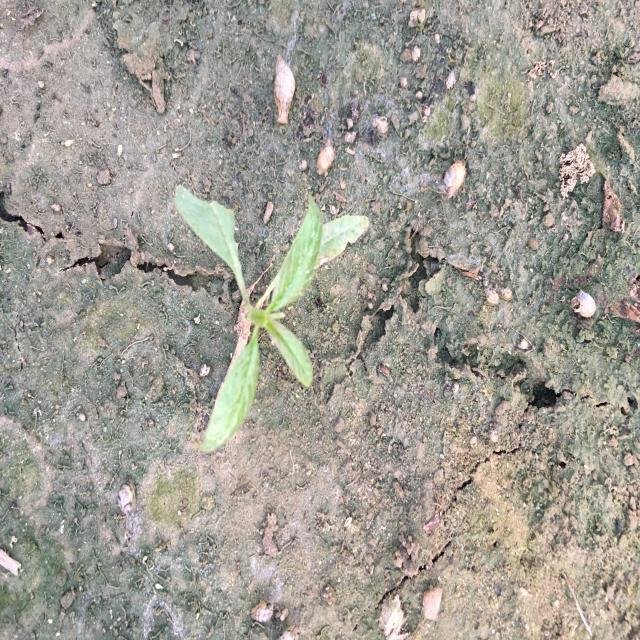Waterhemp: (172, 183, 372, 456)
